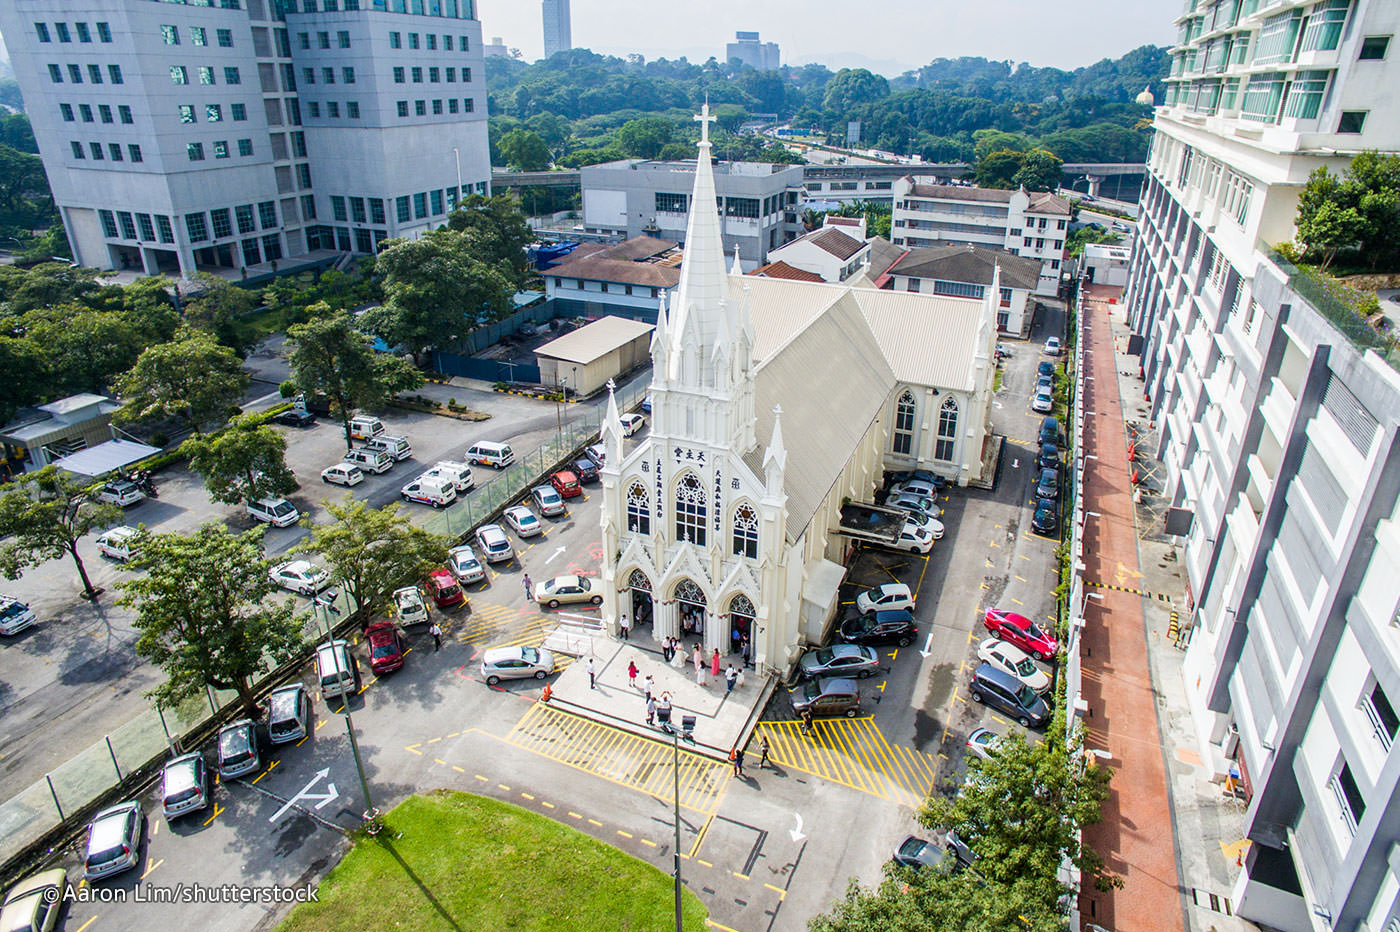Church: (536, 63, 993, 694)
